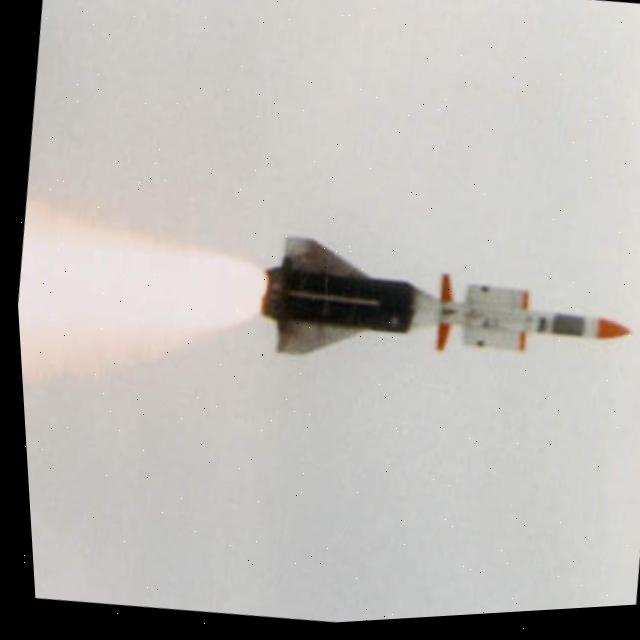missile: (232, 218, 640, 414)
